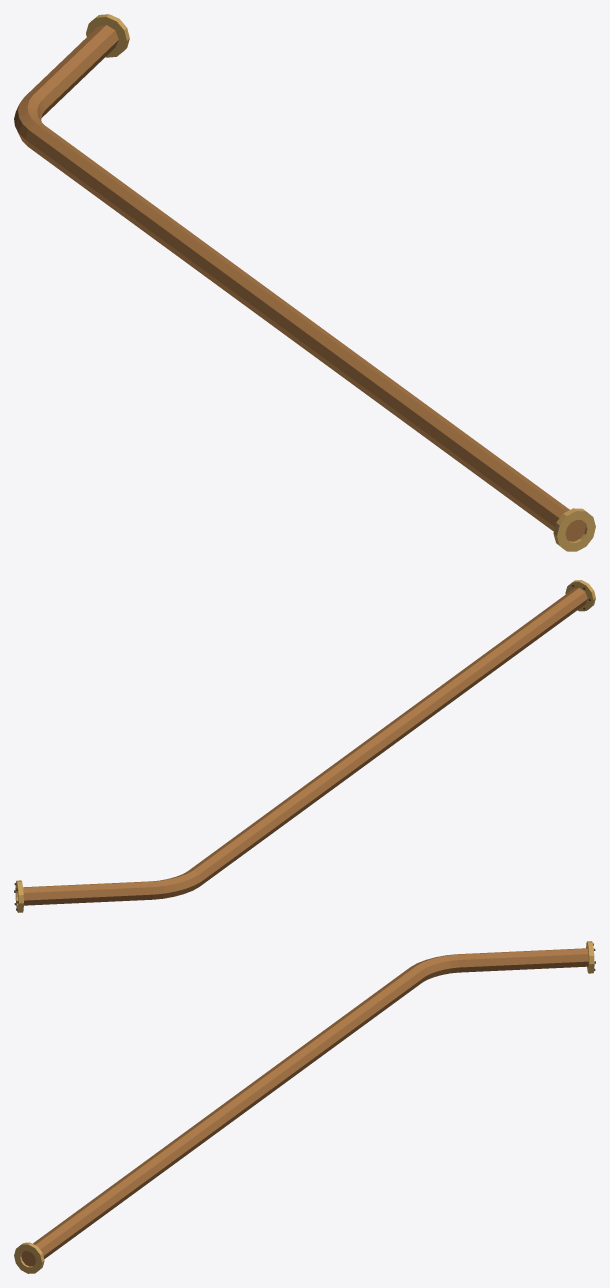
Rendered from pipe_run_06.glb.
3 views of the same model, one above another, from view 1: azimuth 30°, elevation 25°; view 2: azimuth 150°, elevation 25°; view 3: azimuth 330°, elevation 25° (orthographic). The views are drawn at different scales.
Parts seen in each view (by area): view 1: Swept_pipe, End_0_Flange, End_1_Flange; view 2: Swept_pipe; view 3: Swept_pipe, End_0_Flange.
Part boxes in pixels (x1,y1,x2,y2): Swept_pipe: [14, 25, 585, 541]; End_0_Flange: [553, 508, 595, 551]; End_1_Flange: [86, 14, 129, 57]; Swept_pipe: [23, 588, 587, 905]; Swept_pipe: [21, 948, 588, 1266]; End_0_Flange: [14, 1242, 44, 1273].
Bounding box in the file's own units: 1.45 × 0.297 × 8.38.
